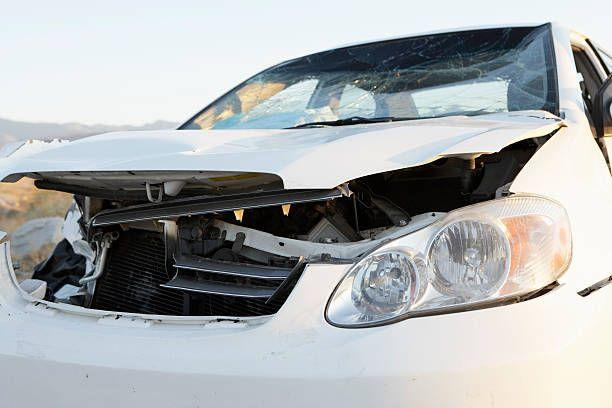automobile: (0, 20, 612, 408)
